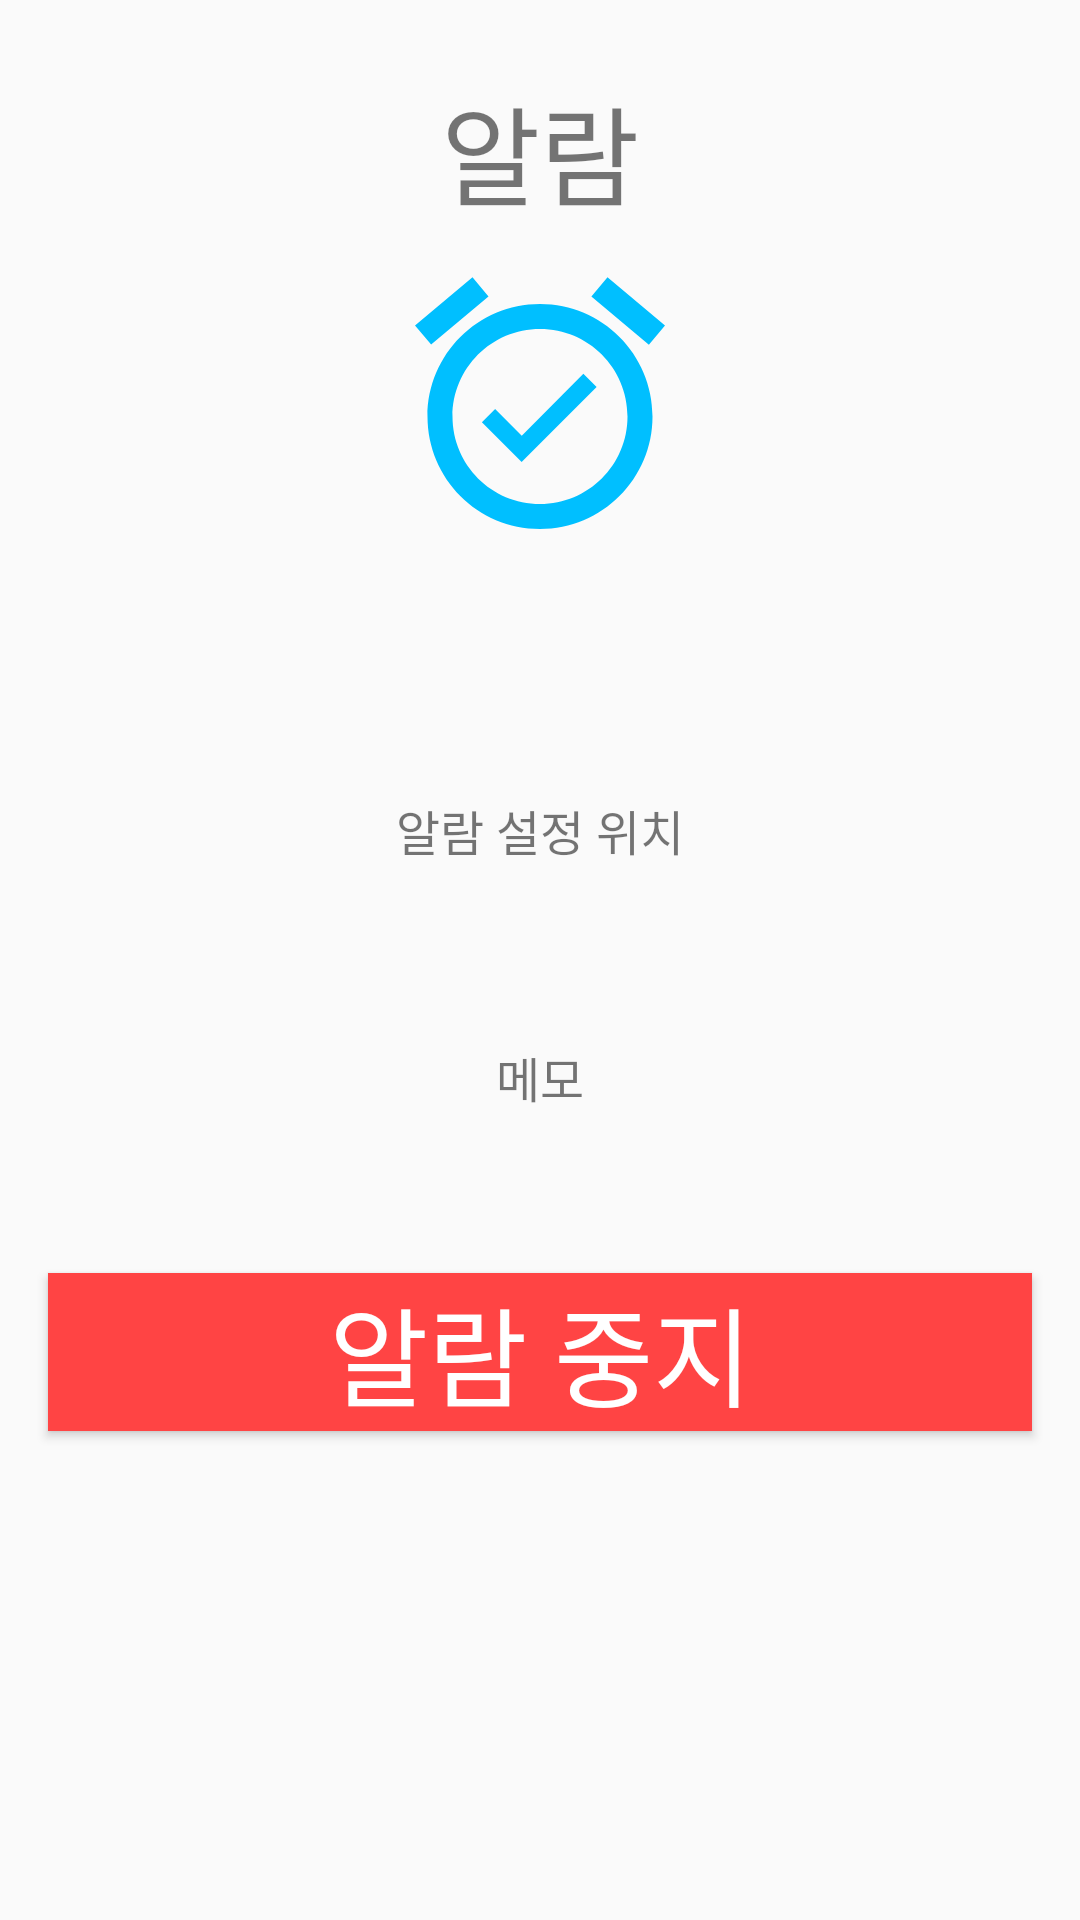

Where icons sit on this 1080x1920 app screen, as (x1, y1, x2, y2):
alarm on: (415, 277, 665, 529)
